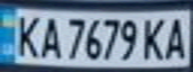6: (81, 15, 103, 61)
7: (60, 15, 84, 61), (100, 16, 121, 61)
9: (118, 16, 142, 62)
A: (160, 12, 193, 61), (36, 13, 63, 60)
K: (9, 11, 42, 58), (139, 15, 169, 61)
